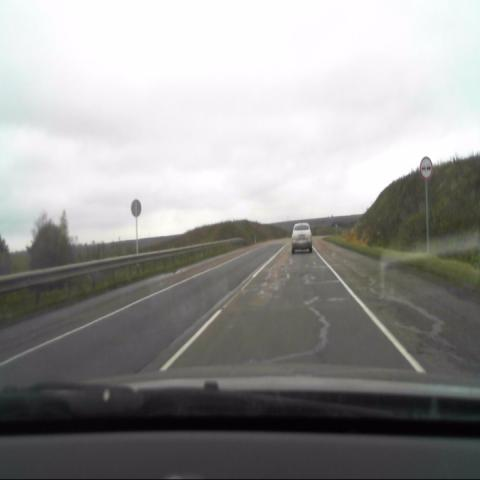3_20: (420, 156, 434, 180)
